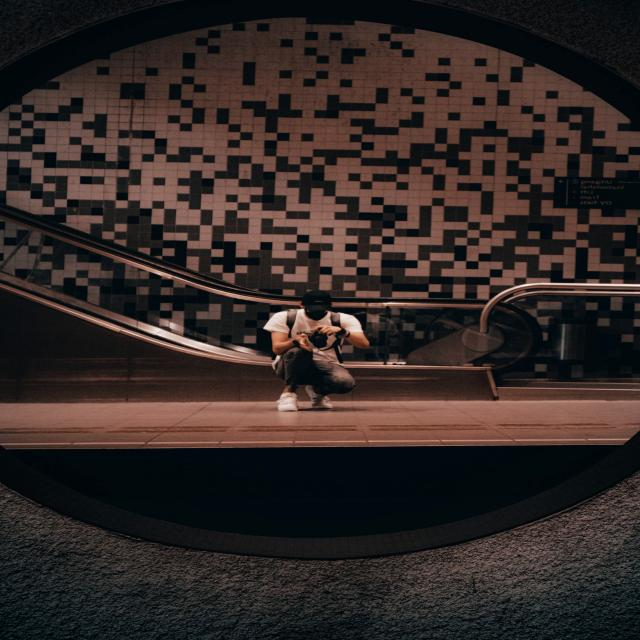adult: (262, 289, 372, 412)
